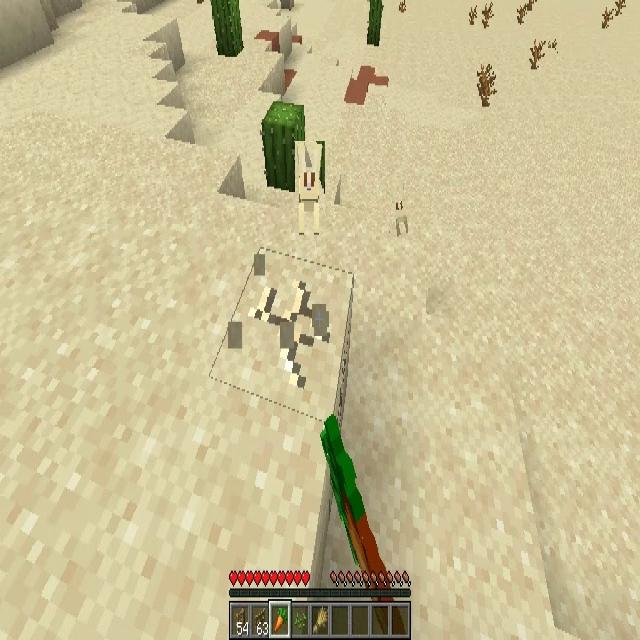rabbit: (296, 141, 326, 237), (390, 174, 408, 237)
